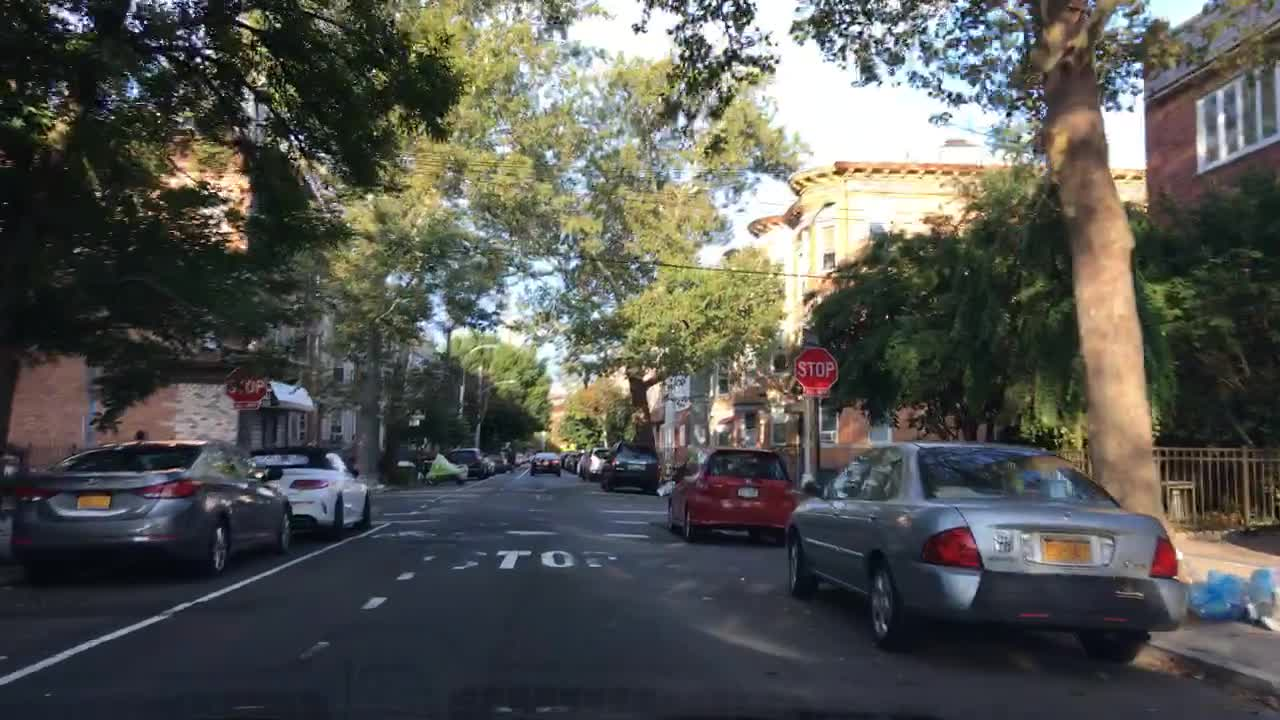car: (784, 439, 1186, 663), (10, 439, 295, 577), (663, 445, 800, 549), (248, 445, 371, 538), (602, 442, 658, 494), (447, 445, 498, 482), (577, 445, 611, 476), (528, 450, 560, 479), (486, 449, 509, 474), (563, 449, 584, 472), (557, 449, 570, 467)
traffic sign: (793, 349, 838, 398), (224, 364, 266, 410)
